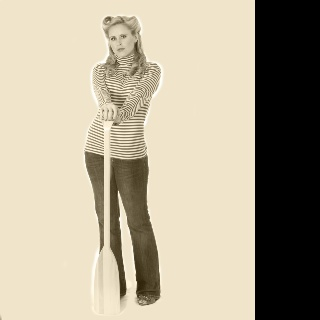without_mask: (109, 24, 134, 55)
